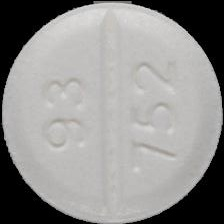0093-0752: (0, 0, 224, 224)
